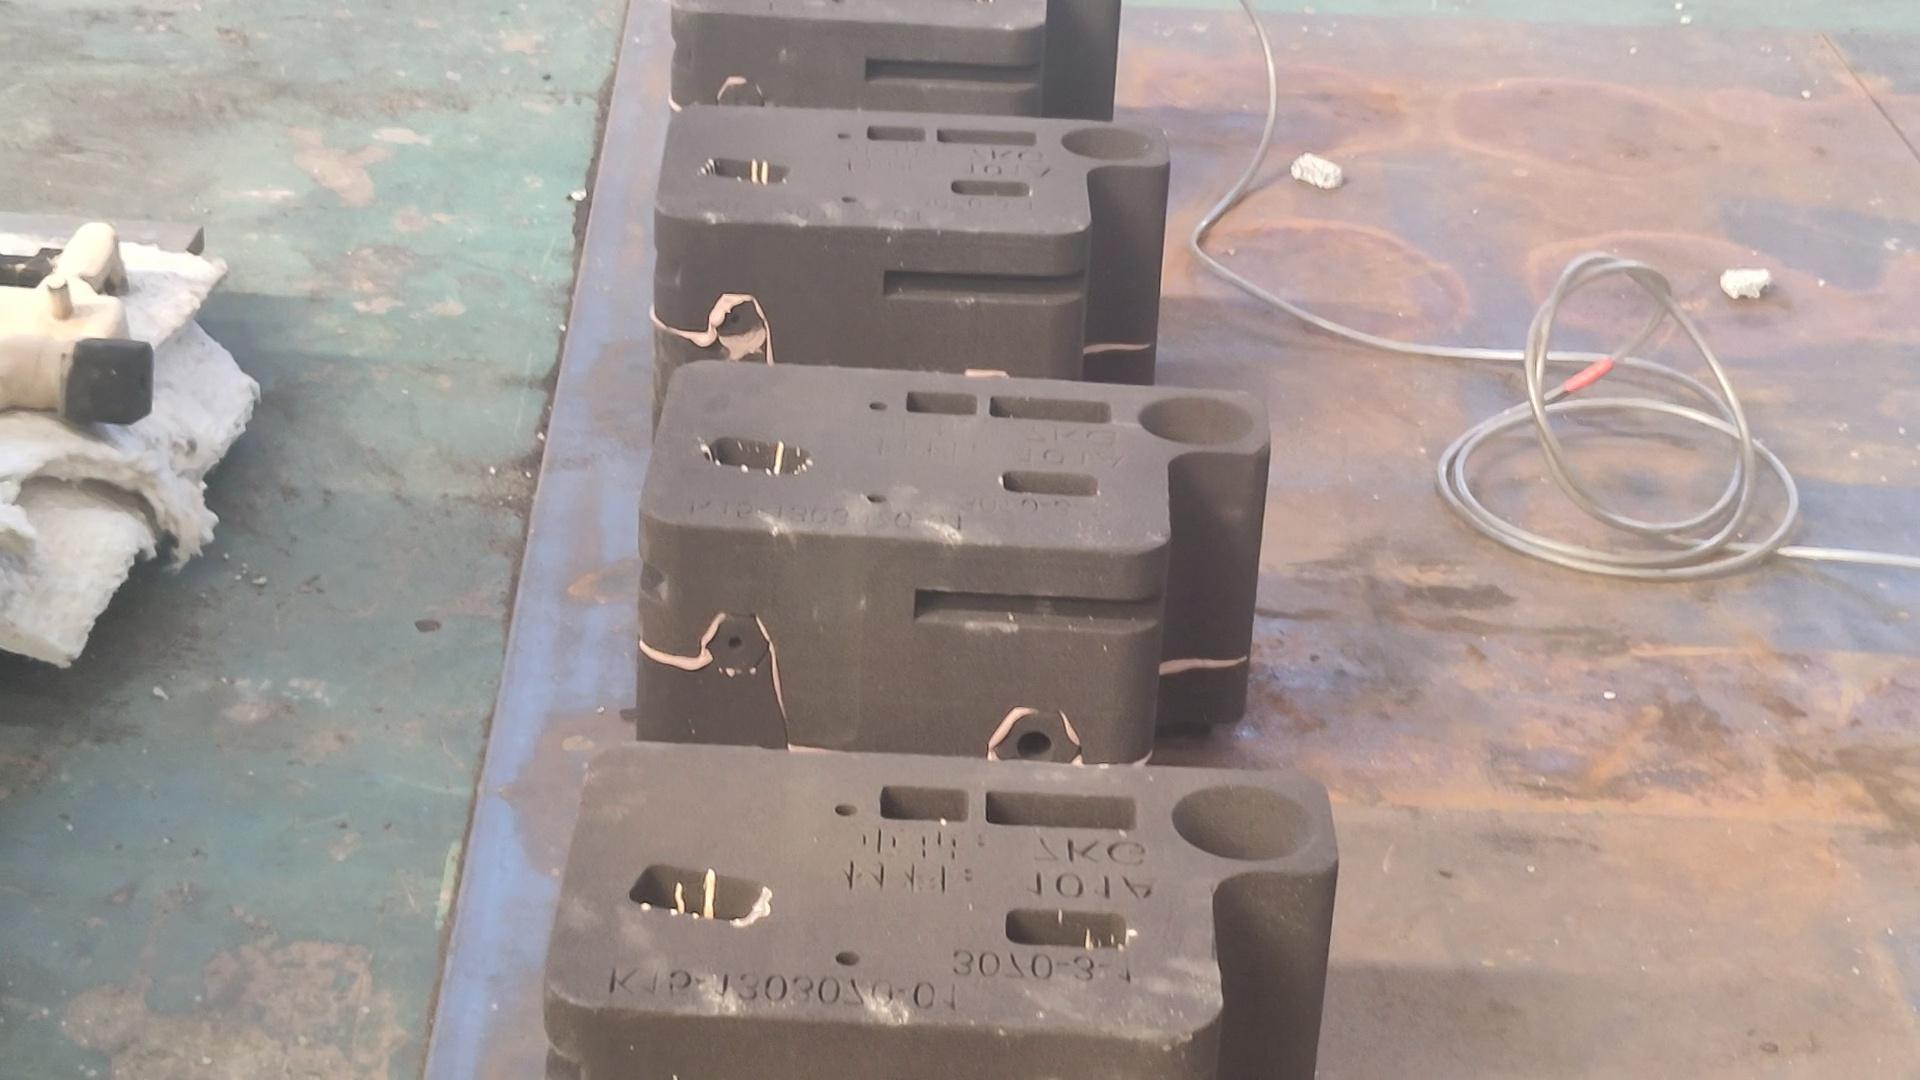pouring hole: (1170, 785, 1317, 864), (1139, 396, 1258, 448), (1062, 125, 1156, 164)
